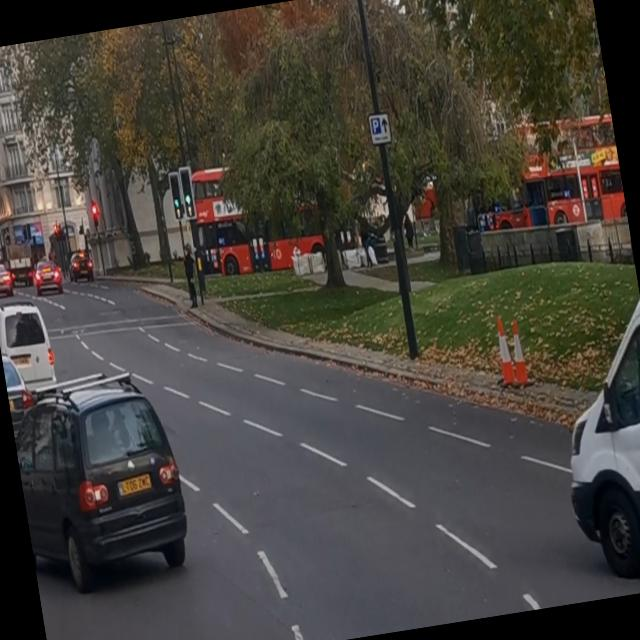Vehicle: (8, 364, 196, 597), (0, 291, 54, 375), (1, 346, 40, 459), (32, 256, 64, 300), (67, 246, 97, 286)
